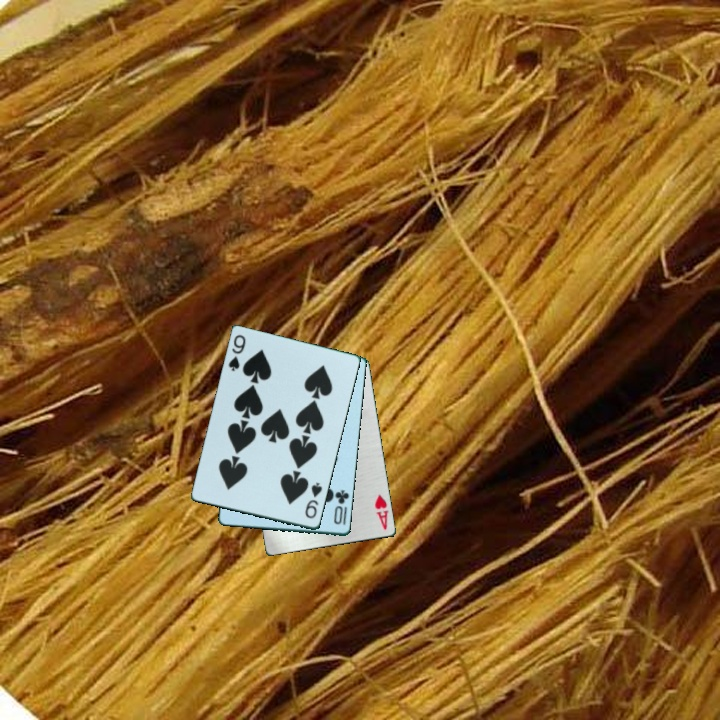10c: (331, 486, 352, 528)
9s: (225, 331, 249, 374), (302, 479, 325, 522)
Ah: (371, 491, 391, 533)
